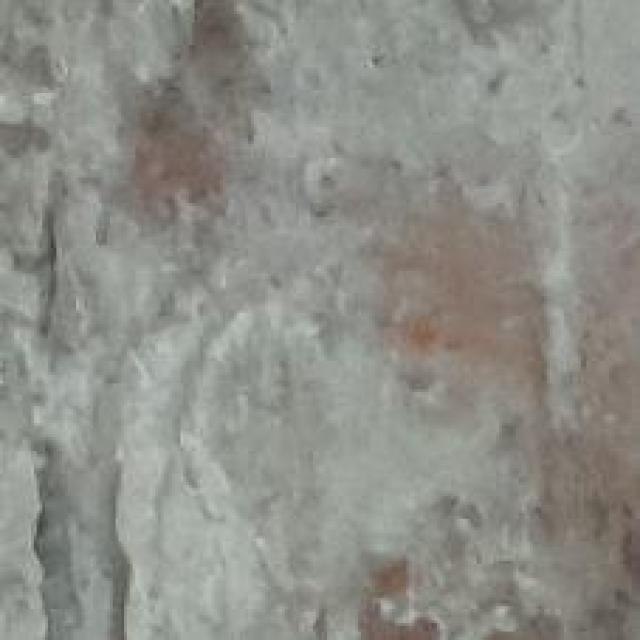Crack: (0, 53, 229, 640)
